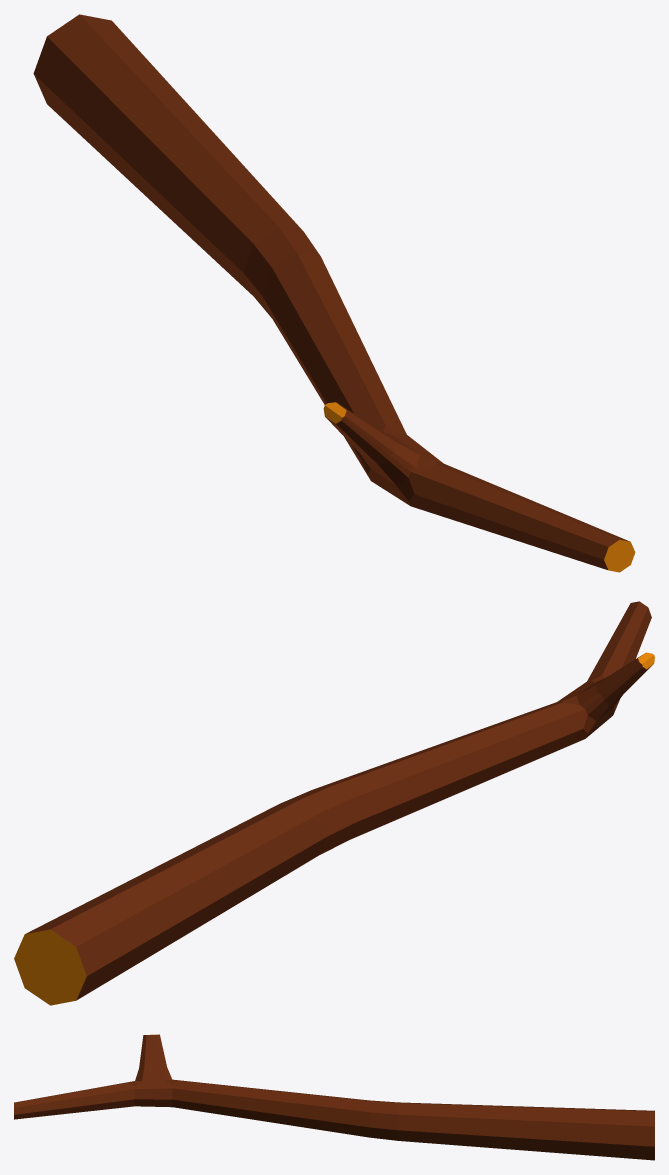
The model's file is Stick_53.fbx.
3 views of the same model, one above another, from view 1: azimuth 30°, elevation 25°; view 2: azimuth 150°, elevation 25°; view 3: azimuth 270°, elevation 25° (orthographic). The views are drawn at different scales.
Parts seen in each view (by area): view 1: Circle.414; view 2: Circle.414; view 3: Circle.414.
Boxes of the visible parts, x1=… form: Circle.414: x1=33, y1=14, x2=635, y2=572; Circle.414: x1=14, y1=601, x2=654, y2=1005; Circle.414: x1=14, y1=1034, x2=654, y2=1160.
Size of the model in its own units: 11.09 by 4.68 by 41.23.
